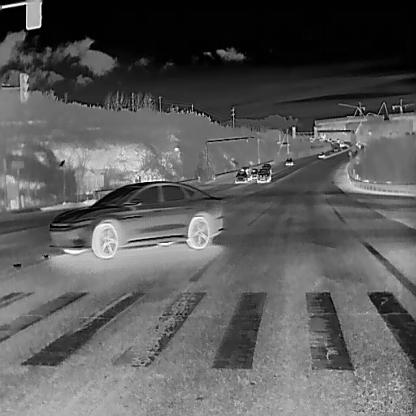car: (48, 179, 223, 258), (255, 167, 270, 183), (234, 170, 248, 184), (260, 162, 272, 174), (249, 167, 258, 179), (284, 157, 294, 166), (318, 150, 324, 158), (329, 148, 333, 154), (333, 146, 337, 151), (330, 139, 334, 144), (357, 143, 361, 147), (340, 146, 344, 150), (355, 140, 358, 144)
truck: (238, 166, 253, 180), (338, 138, 344, 147)
